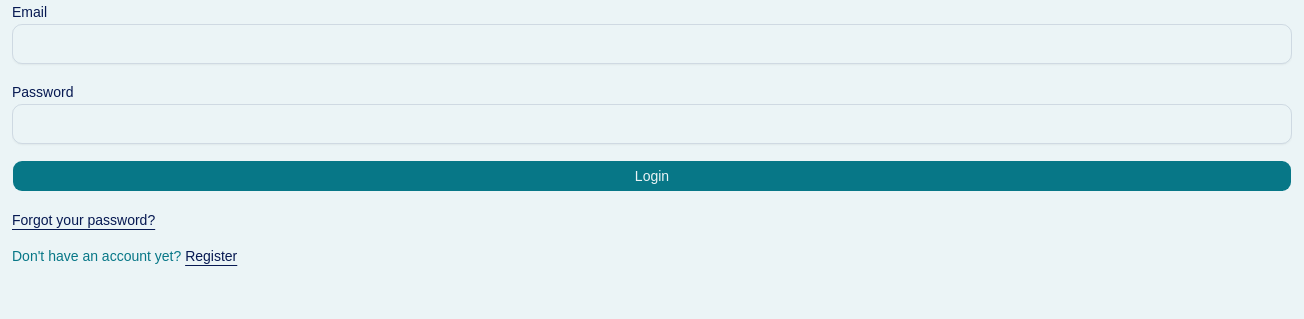
Test: LoginForm › blocks admin login without storing session
This screenshot has width=1304, height=319.
Type "admin@example.com" into the field labelled "Email" at (652, 44), box x1=12 y1=24 x2=1292 y2=64
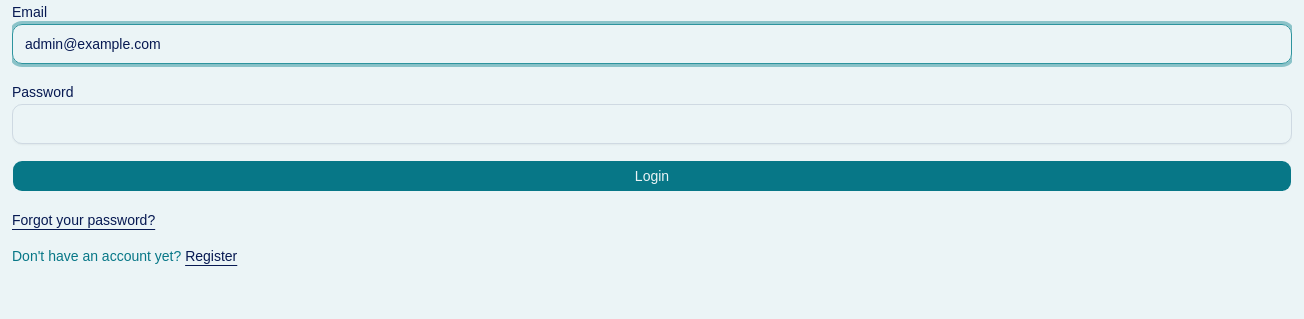
Type "secret123" into the password field labelled "Password" at (652, 124), box x1=12 y1=104 x2=1292 y2=144
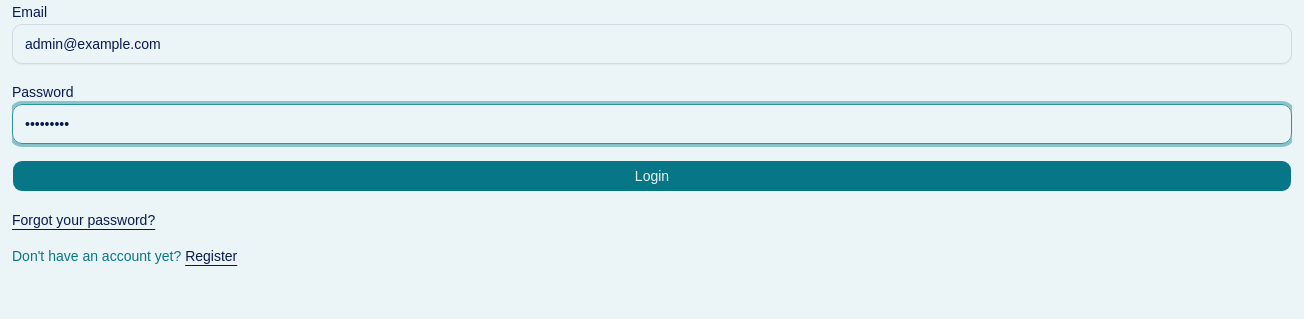
Click the button "Login" at (652, 176), box x1=12 y1=160 x2=1292 y2=192
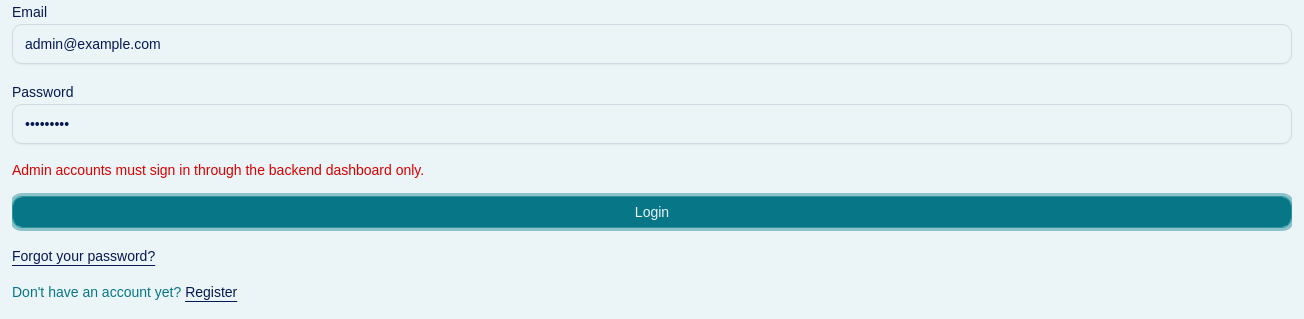
Now the text "Admin accounts must sign in through the backend dashboard only." is shown, box x1=12 y1=162 x2=424 y2=178
